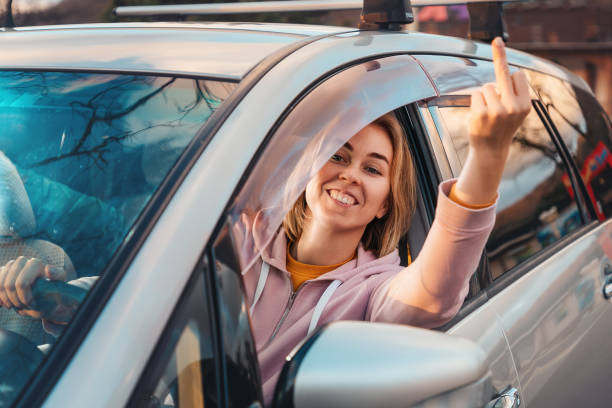insulting_gesture: (465, 31, 534, 149)
